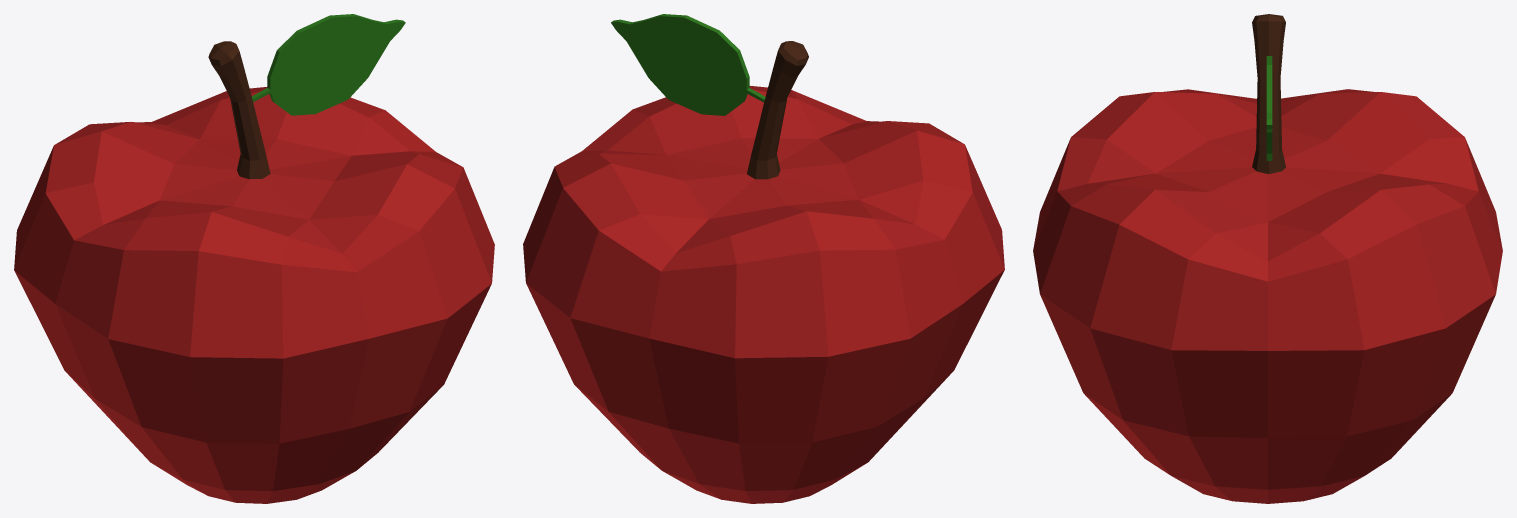
The model's file is Apple.obj.
3 renders of one model, left to right at view 1: azimuth 30°, elevation 25°; view 2: azimuth 150°, elevation 25°; view 3: azimuth 270°, elevation 25°, orthographic. The views are drawn at different scales.
Visible parts, largest first — view 1: Apple_DarkRed, Apple_DarkGreen, Apple_DarkBrown; view 2: Apple_DarkRed, Apple_DarkGreen, Apple_DarkBrown; view 3: Apple_DarkRed, Apple_DarkBrown, Apple_DarkGreen.
Boxes of the visible parts, left/top/right/bottom form: Apple_DarkRed: left=14, top=87, right=494, bottom=503; Apple_DarkGreen: left=251, top=14, right=405, bottom=115; Apple_DarkBrown: left=208, top=41, right=270, bottom=179; Apple_DarkRed: left=523, top=86, right=1004, bottom=503; Apple_DarkGreen: left=611, top=14, right=765, bottom=115; Apple_DarkBrown: left=747, top=41, right=808, bottom=179; Apple_DarkRed: left=1033, top=89, right=1502, bottom=503; Apple_DarkBrown: left=1252, top=14, right=1285, bottom=173; Apple_DarkGreen: left=1266, top=56, right=1272, bottom=160.
Size of the model in its own units: 0.8025 by 0.8517 by 0.7987.
